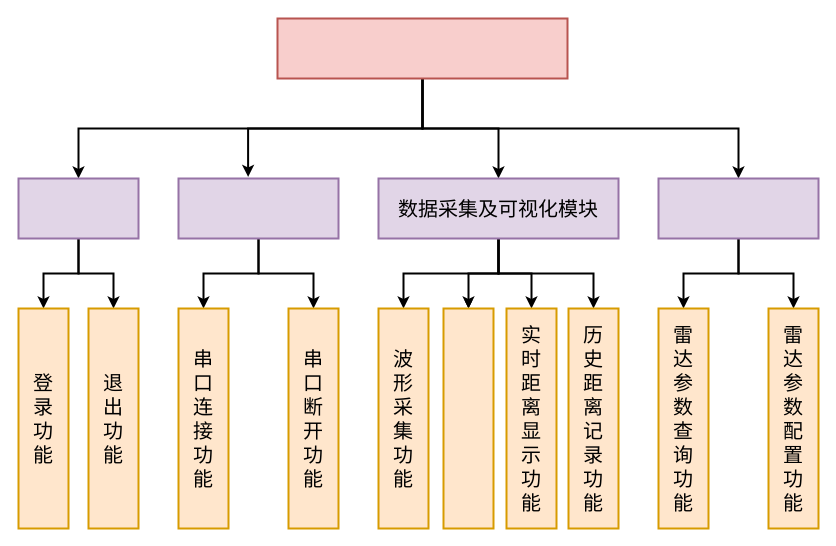
Image size: 836x546. Some labels were removed from this diagram. The centre of each missing label's shape, as x and y in pixels:
串口通信模块: pixel 258 208
暂 停 采 集 功 能: pixel 468 418
登录模块: pixel 78 208
雷达参数模块: pixel 738 208
雷达目标检测软件: pixel 422 48
